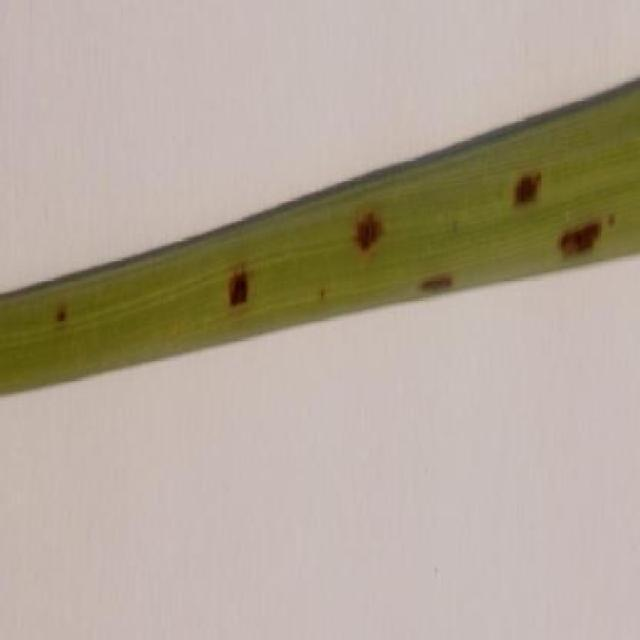Leaf_Blast: (557, 194, 617, 272), (350, 175, 385, 259), (224, 235, 253, 336), (506, 150, 548, 213), (418, 246, 458, 306), (312, 265, 331, 324), (53, 282, 70, 346)
